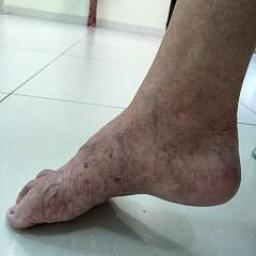Medial View -Right Foot-: (1, 73, 251, 241)
